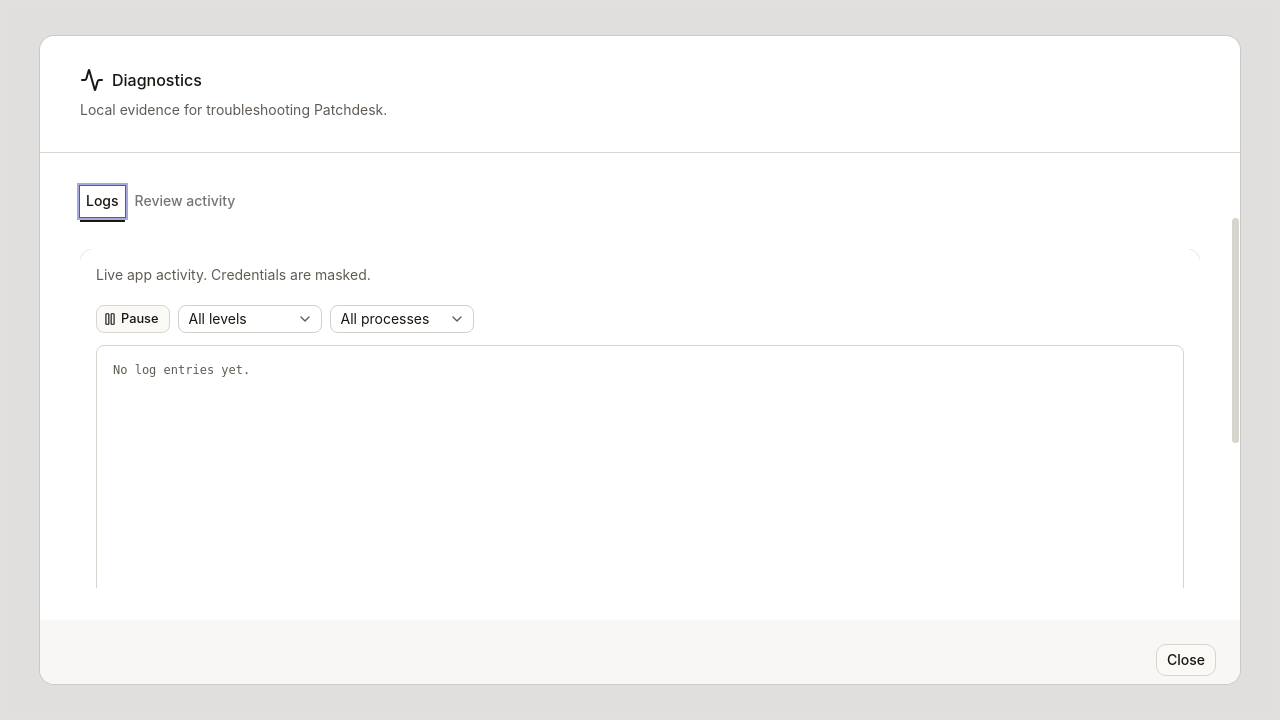
Test case: DiagnosticsModal Review activity › reads an underscore phase name as words
Click the tab "Review activity" at (185, 201), box x1=129 y1=186 x2=241 y2=216
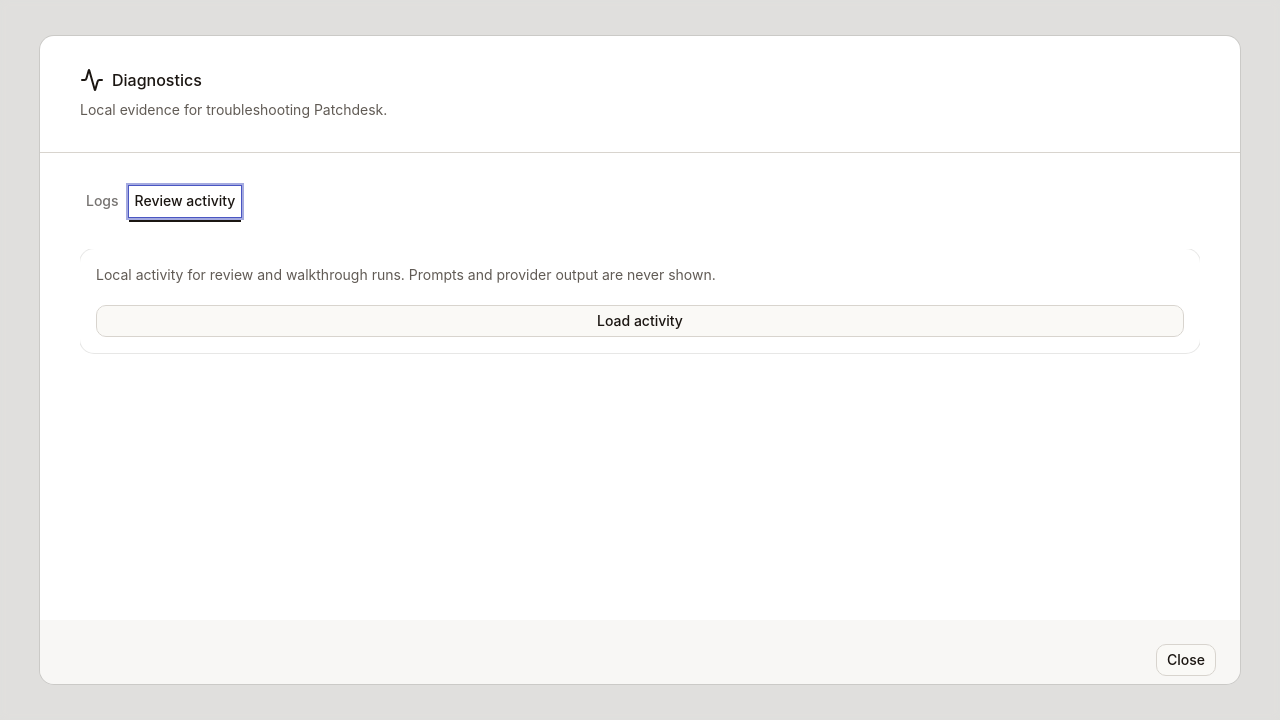
Click the button "Load activity" at (640, 321), box x1=96 y1=305 x2=1184 y2=337
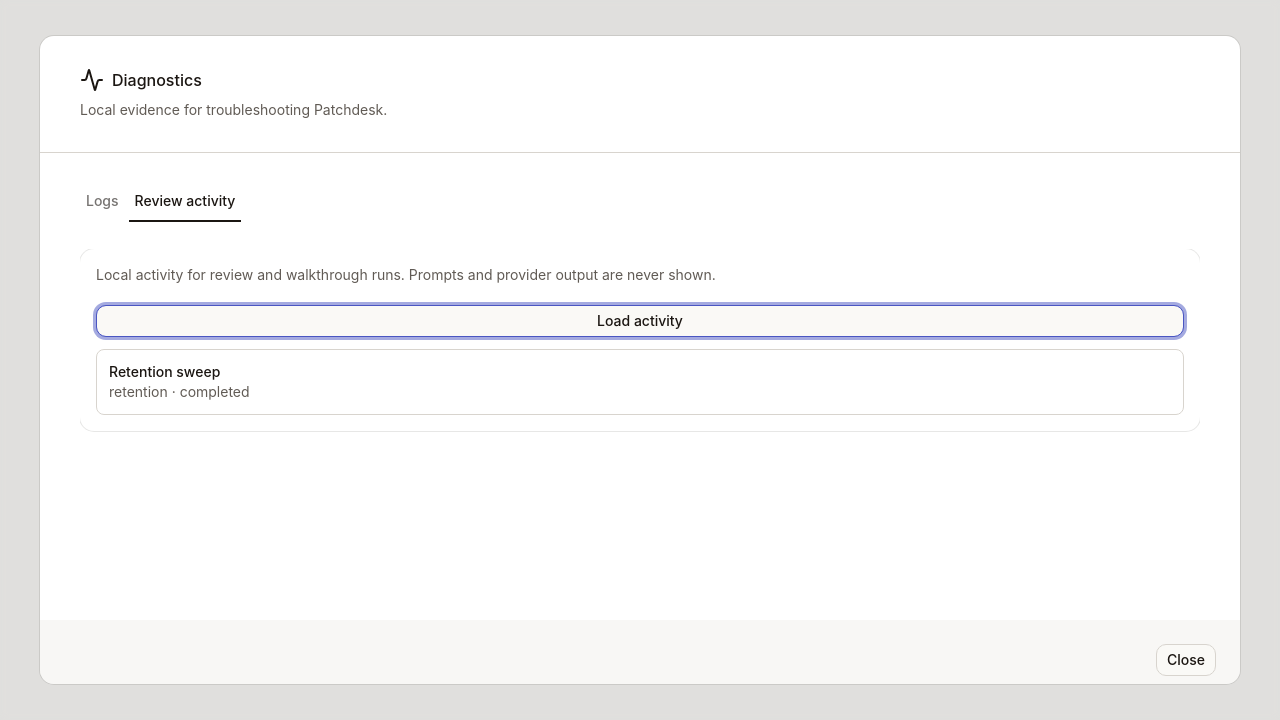
Check: the text "Retention sweep" is shown, box x1=109 y1=363 x2=220 y2=380
